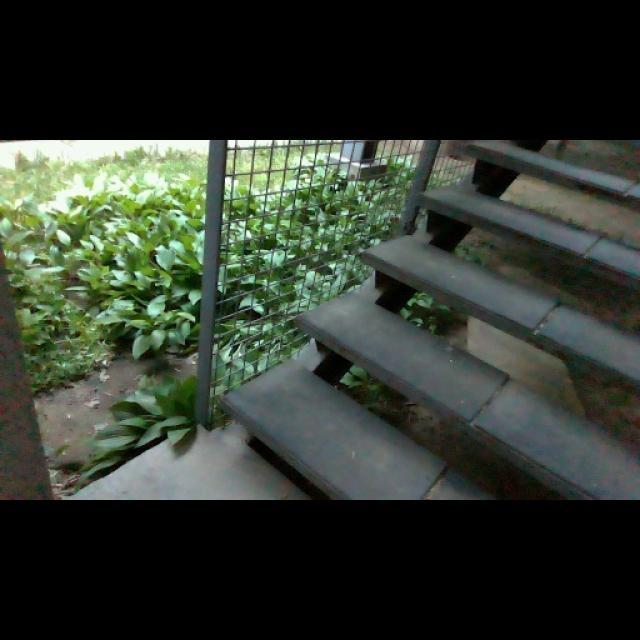stair: (260, 185, 640, 493)
